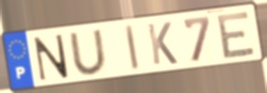7: (182, 14, 213, 64)
E: (216, 9, 258, 61)
I: (124, 23, 141, 72)
K: (145, 20, 180, 67)
N: (33, 33, 71, 83)
U: (67, 27, 110, 77)
